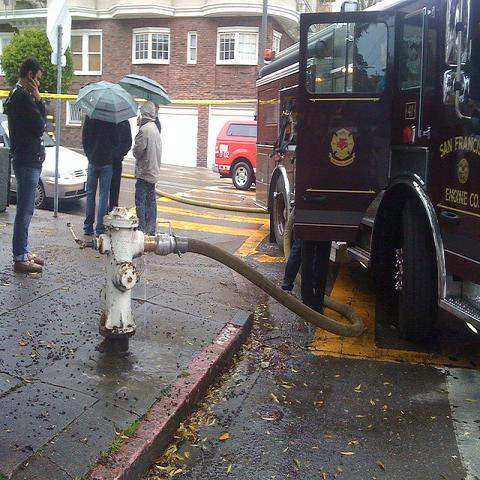car: (35, 126, 90, 207)
truck: (254, 1, 480, 358), (212, 120, 257, 190)
